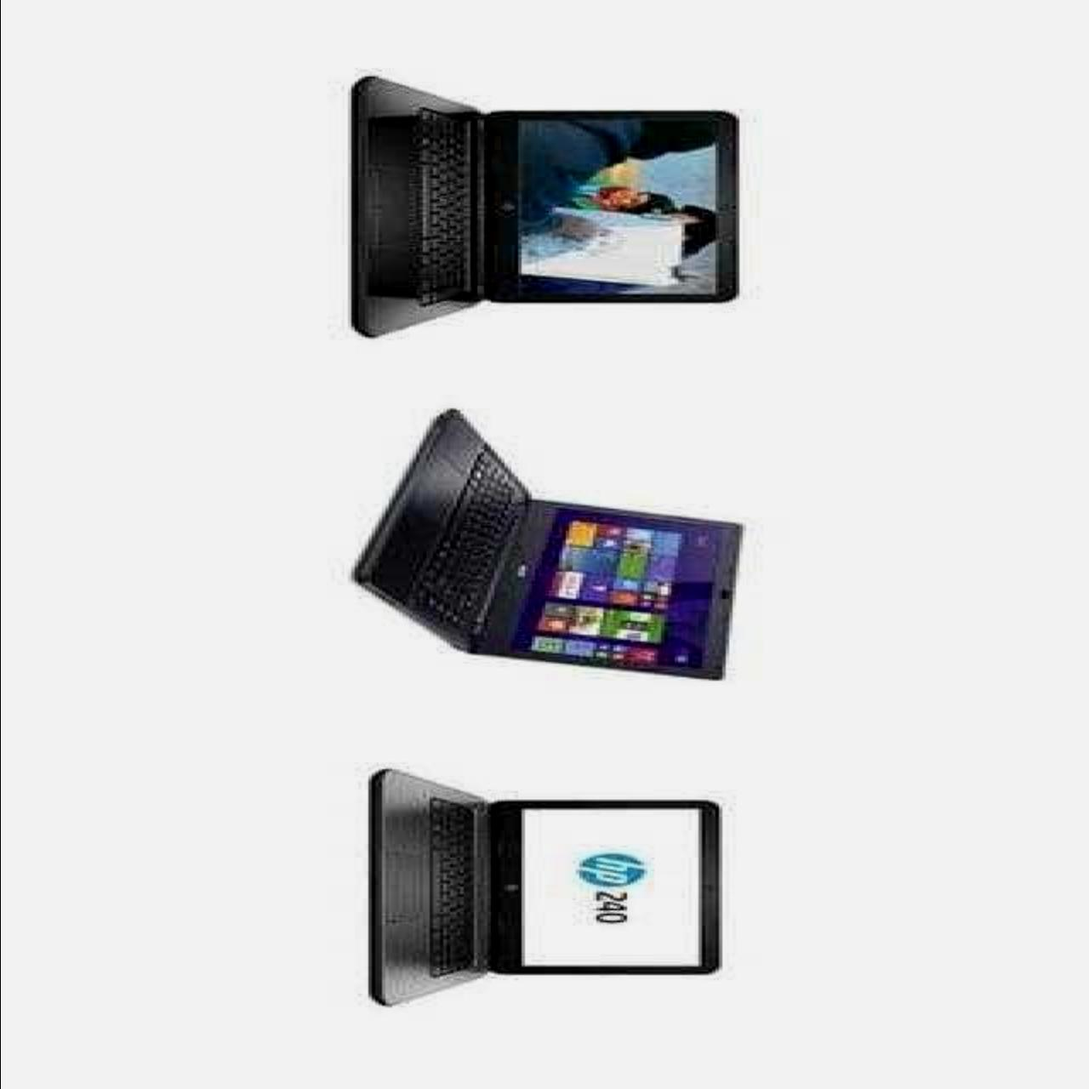laptop: (359, 404, 744, 685), (366, 84, 723, 338), (368, 764, 717, 1002)
